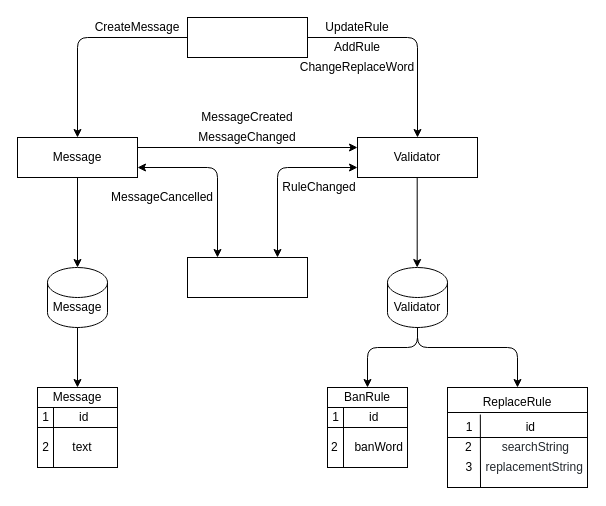
This 606x506 diagram has some shape labels left out. Each missing label, with the box of its shape:
Frontend: (186, 16, 308, 58)
ServiceEvents: (186, 256, 308, 298)
